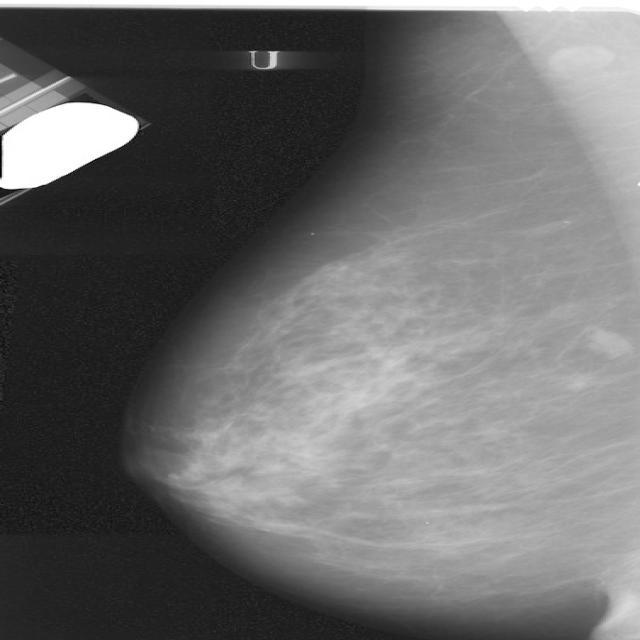tumour: (588, 328, 632, 359)
